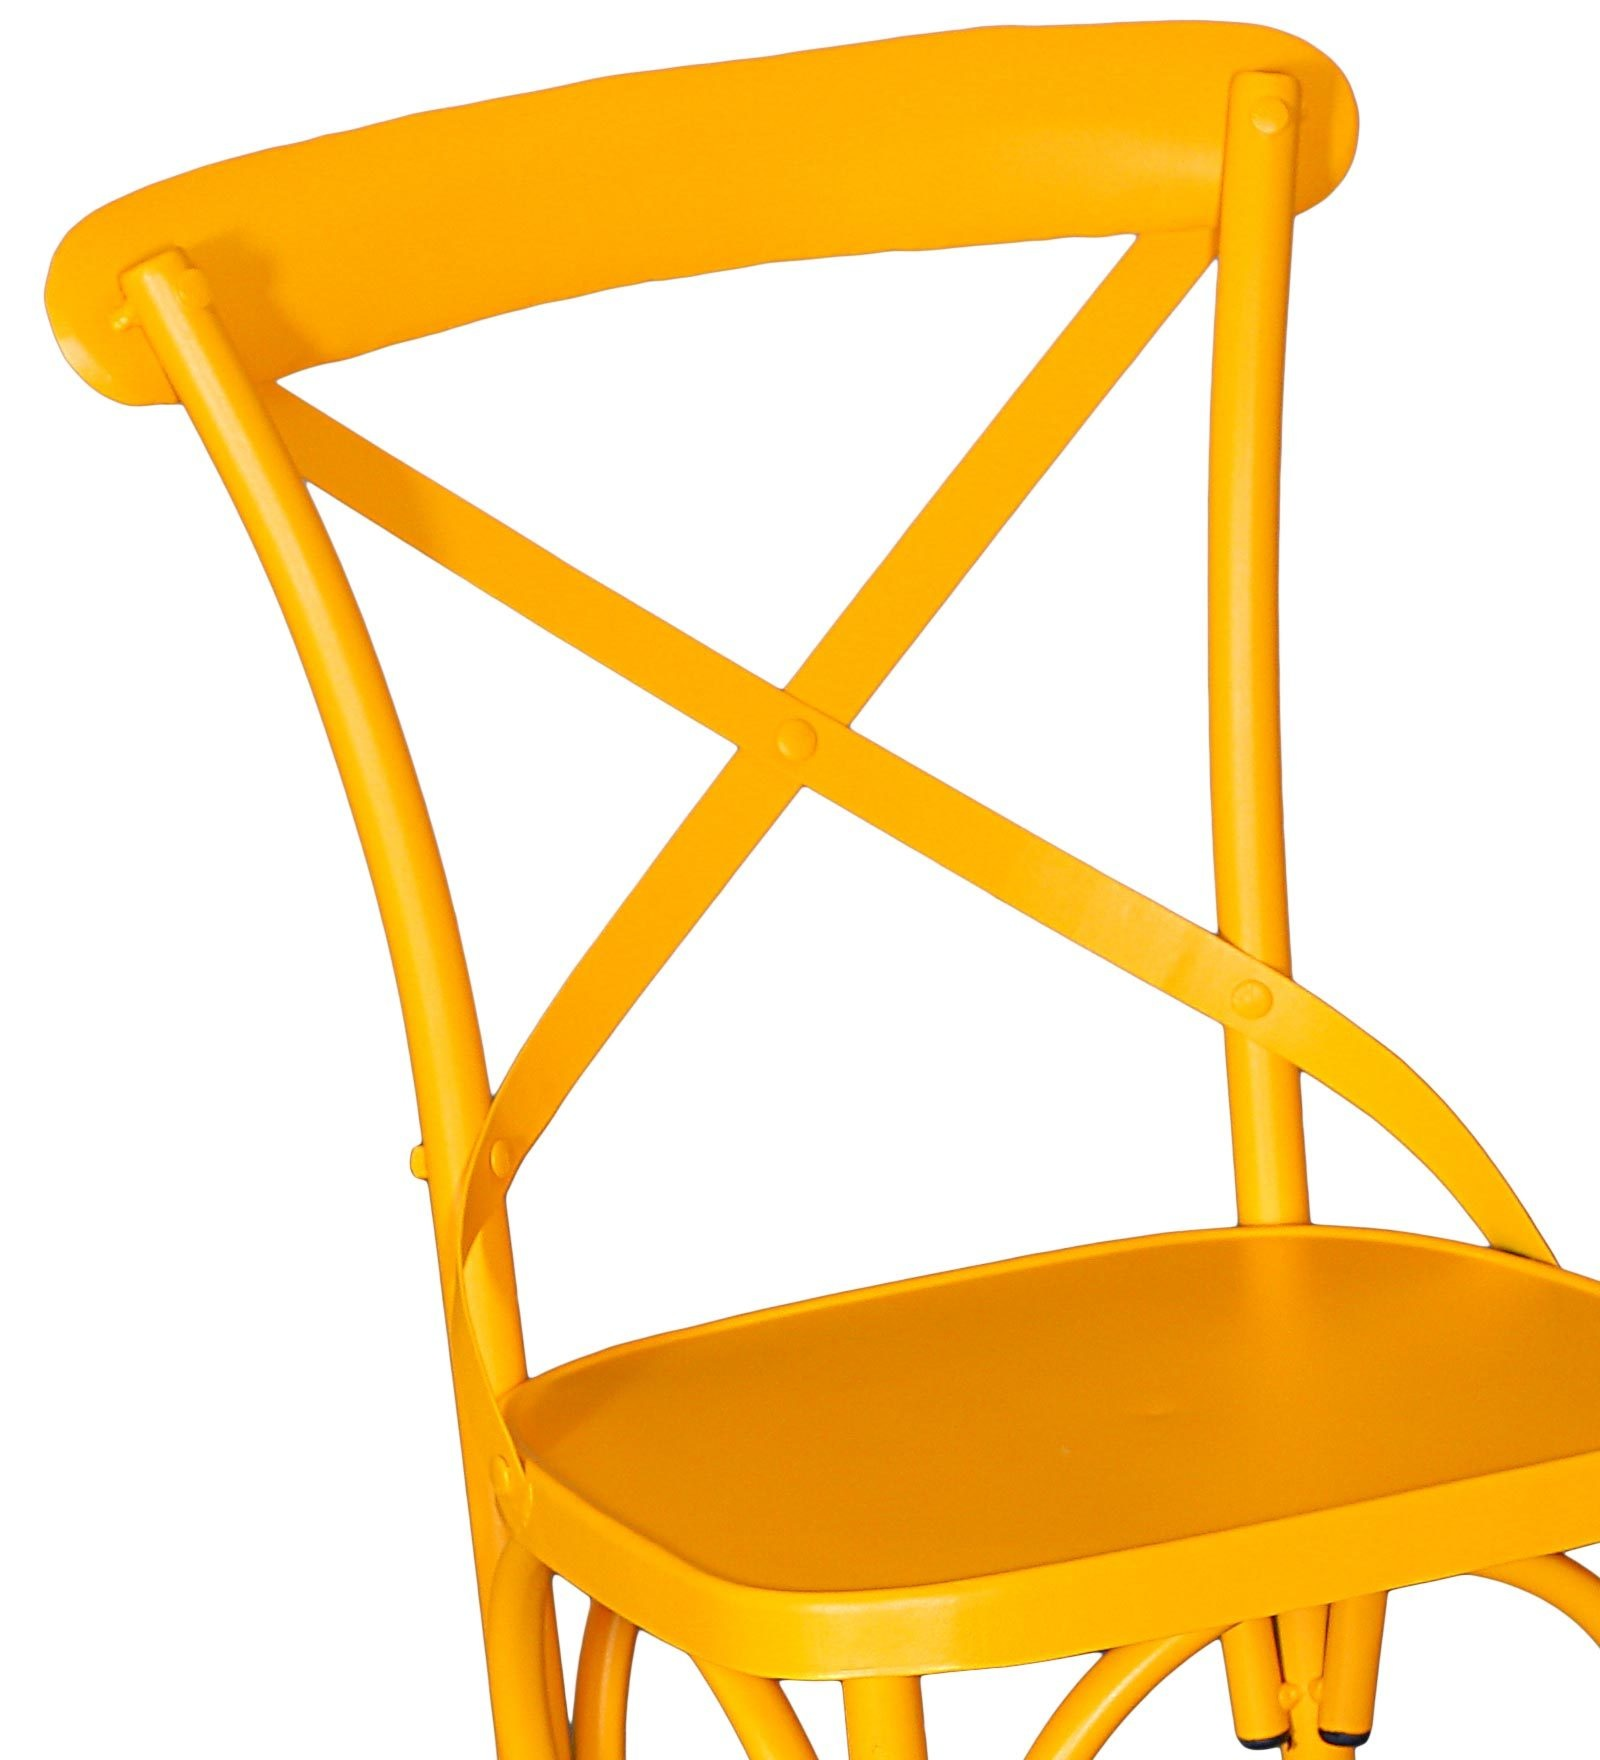Fabian Metal Chair in Yellow Color by Bohemiana: (34, 15, 1600, 1748)
